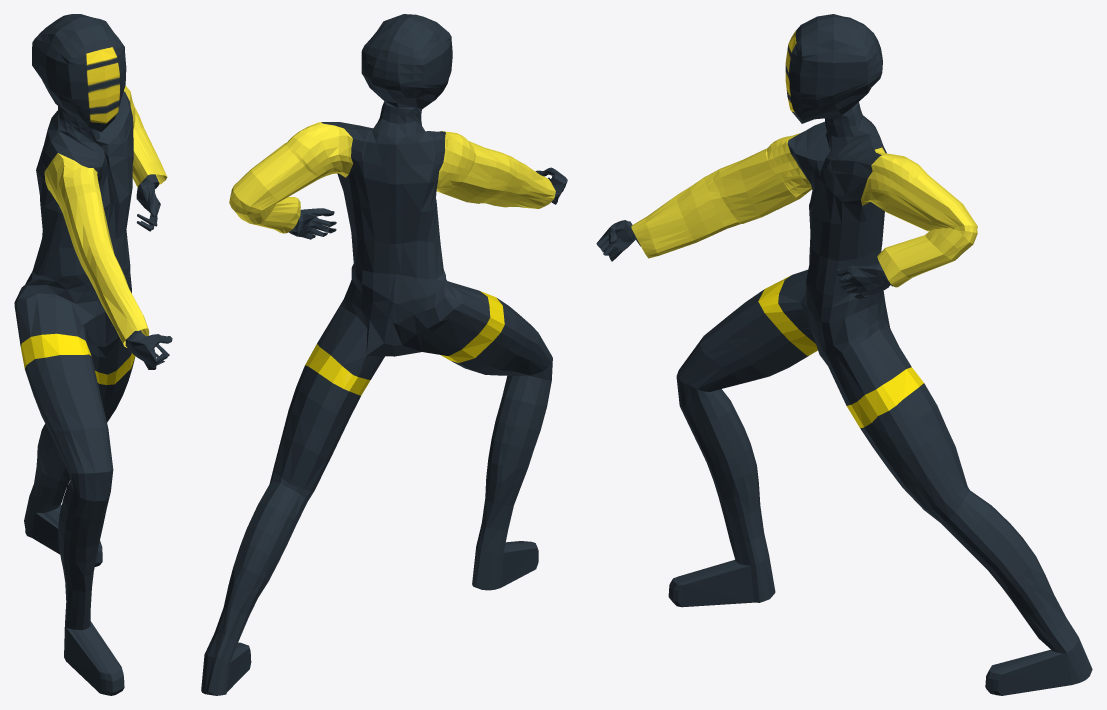
File: Sentry_WR_000011.obj
The picture shows the model from 3 angles, left to right: view 1: azimuth 30°, elevation 25°; view 2: azimuth 150°, elevation 25°; view 3: azimuth 270°, elevation 25°; orthographic projection. The views are drawn at different scales.
Visible parts, largest first — view 1: Cube; view 2: Cube; view 3: Cube.
Part boxes in pixels (x1=…): Cube: x1=14, y1=14, x2=172, y2=695; Cube: x1=201, y1=14, x2=567, y2=695; Cube: x1=596, y1=14, x2=1092, y2=695.
Size of the model in its own units: 1.19 by 3.61 by 2.58.
